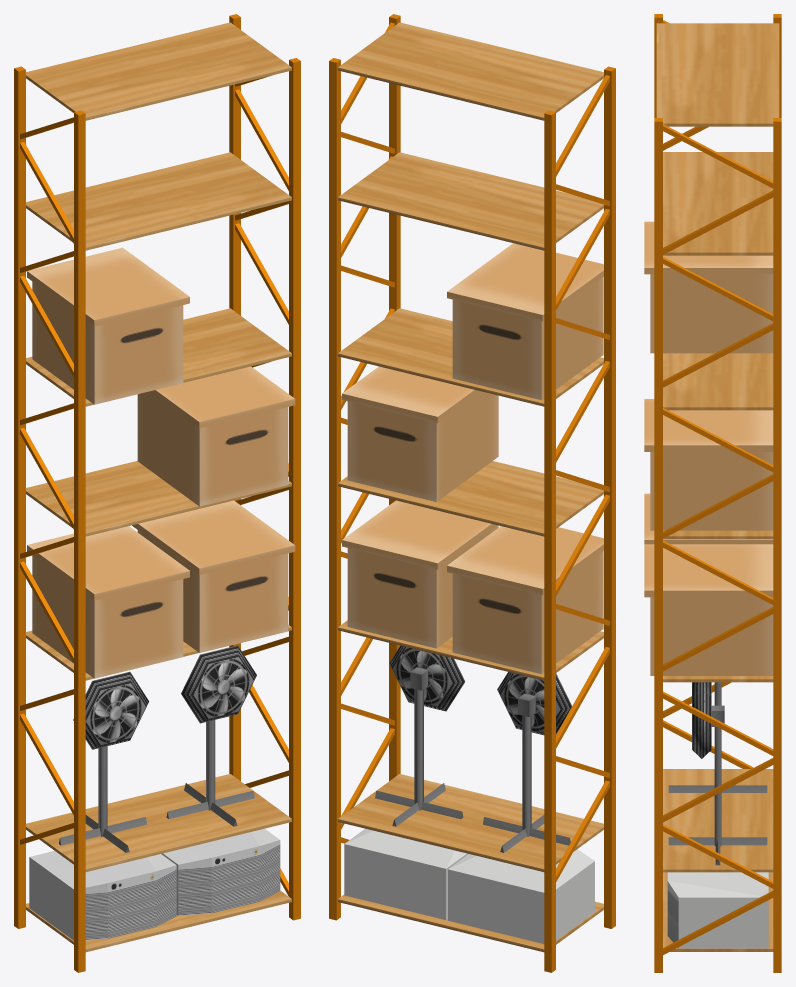
The model's file is Fan2_Rack.fbx.
3 views of the same model, side by side, from view 1: azimuth 30°, elevation 25°; view 2: azimuth 150°, elevation 25°; view 3: azimuth 270°, elevation 25° (orthographic).
Parts seen in each view (by area): view 1: Fan2_Rack; view 2: Fan2_Rack; view 3: Fan2_Rack.
Boxes of the visible parts, x1,y1,x2,y2 form: Fan2_Rack: (14, 14, 300, 972); Fan2_Rack: (329, 14, 615, 972); Fan2_Rack: (644, 14, 781, 972).
Size of the model in its own units: 2 by 7.37 by 1.08.
